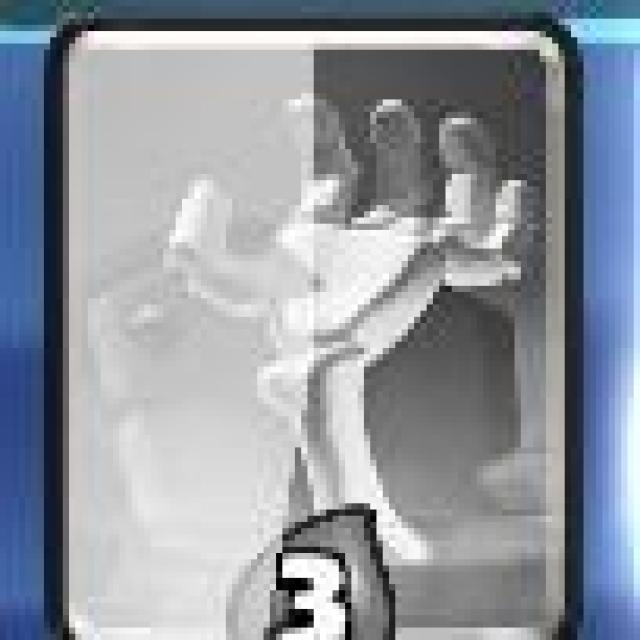Tombstone: (37, 21, 586, 640)
